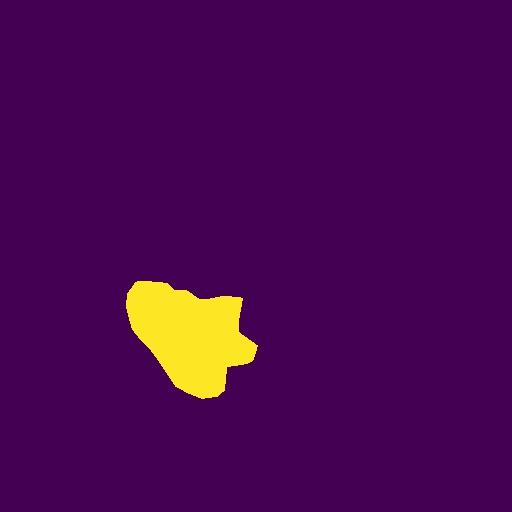Gliomia_tumour: (126, 281, 258, 399)
